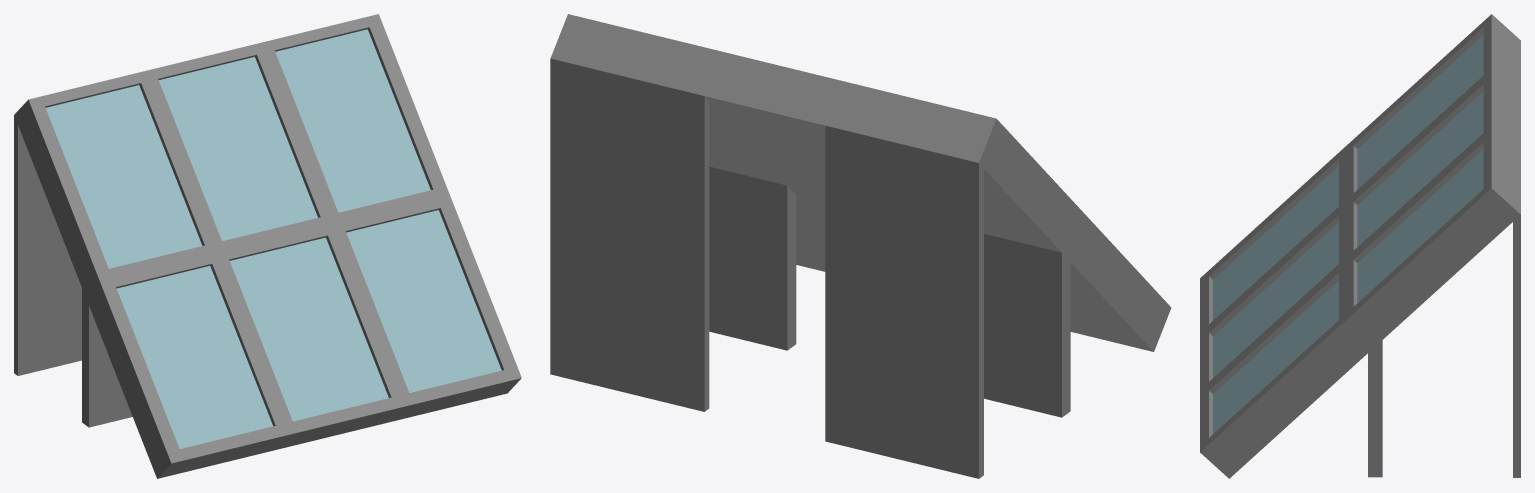
The model's file is Solar panel 01.fbx.
The picture shows the model from 3 angles, left to right: view 1: azimuth 30°, elevation 25°; view 2: azimuth 150°, elevation 25°; view 3: azimuth 270°, elevation 25°; orthographic projection. The views are drawn at different scales.
Parts seen in each view (by area): view 1: Cube; view 2: Cube; view 3: Cube.
Boxes of the visible parts, x1,y1,x2,y2 form: Cube: [14, 14, 521, 478]; Cube: [550, 14, 1171, 478]; Cube: [1200, 14, 1520, 478].
Bounding box in the file's own units: 200 × 156 × 156.
